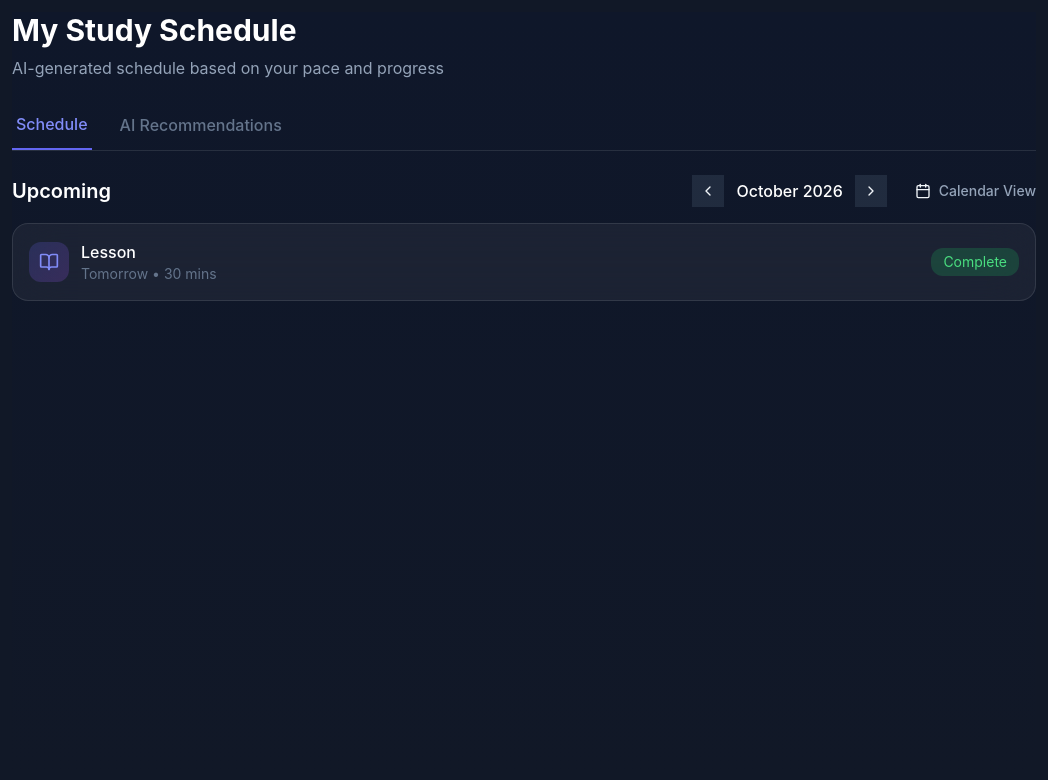
Test case: StudySchedule › can switch between list and calendar view
This screenshot has width=1048, height=780.
Expected: the heading "Upcoming" is shown, [12,177,111,205]
Click calendar view button
Click the button "Calendar View": (987, 191) [939,181,1036,201]
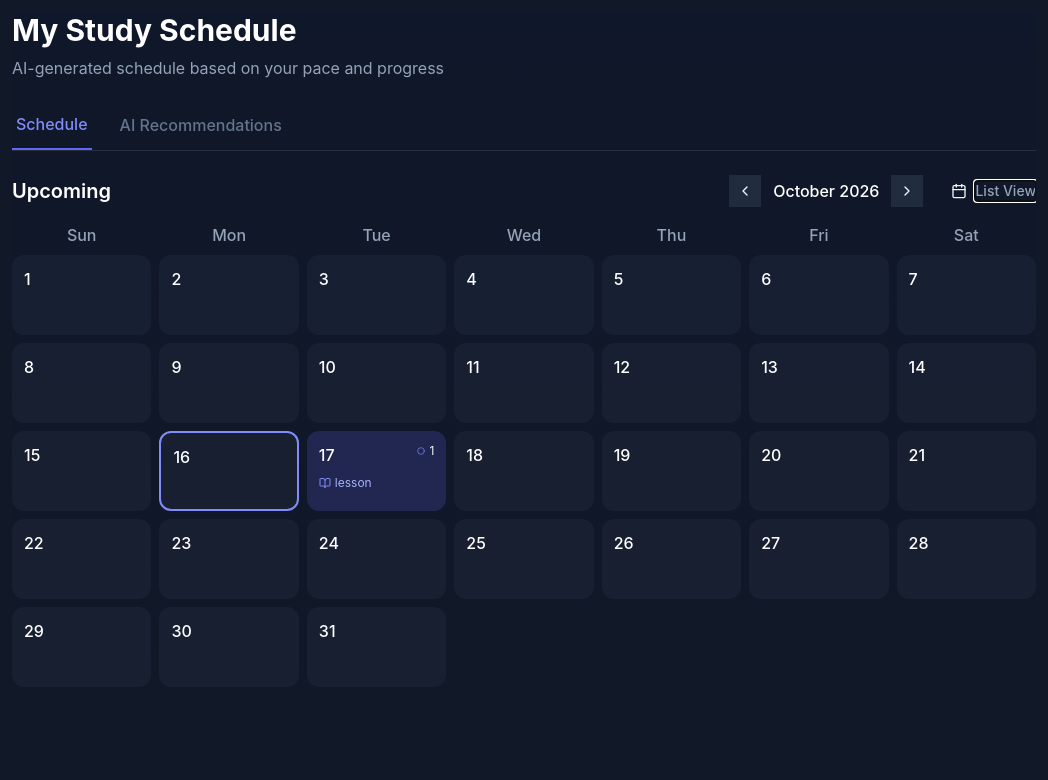
Expected: the text "Sun" is shown, [67,225,96,245]
Expected: the text "Mon" is shown, [212,225,246,245]
Switch back to list view
Click the button "List View": (1006, 191) [976,181,1036,201]
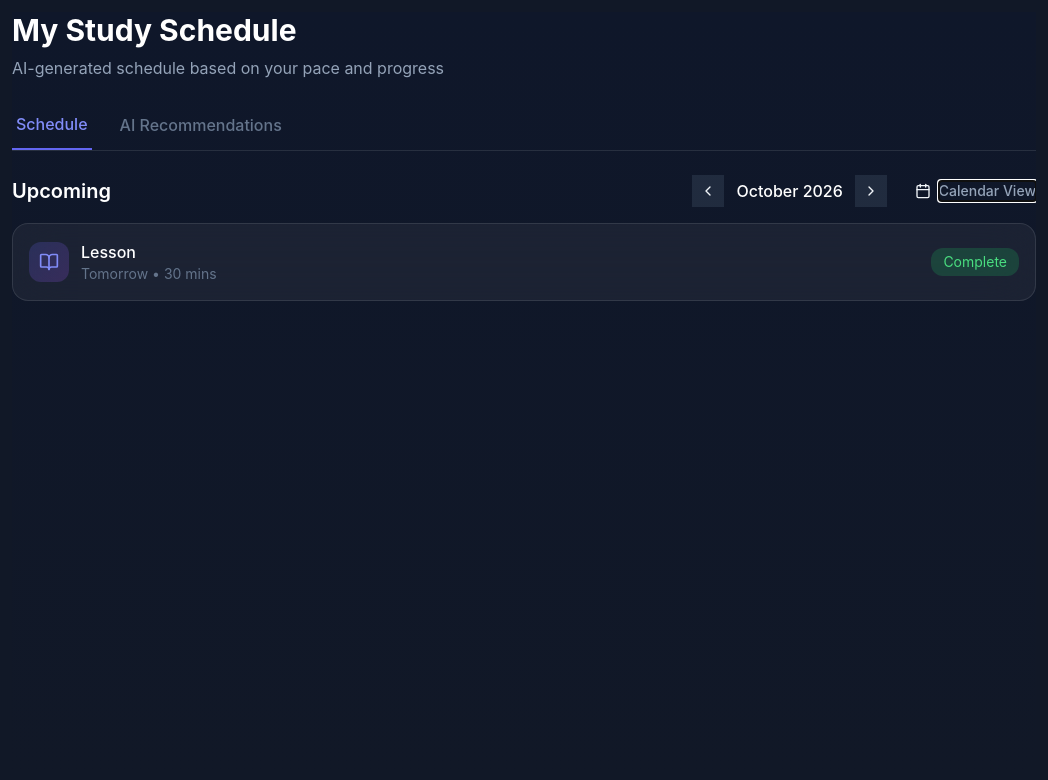
Expected: the text "lesson" is shown, [81,242,136,262]
Expected: the button "Complete" is shown, [931,248,1019,276]
